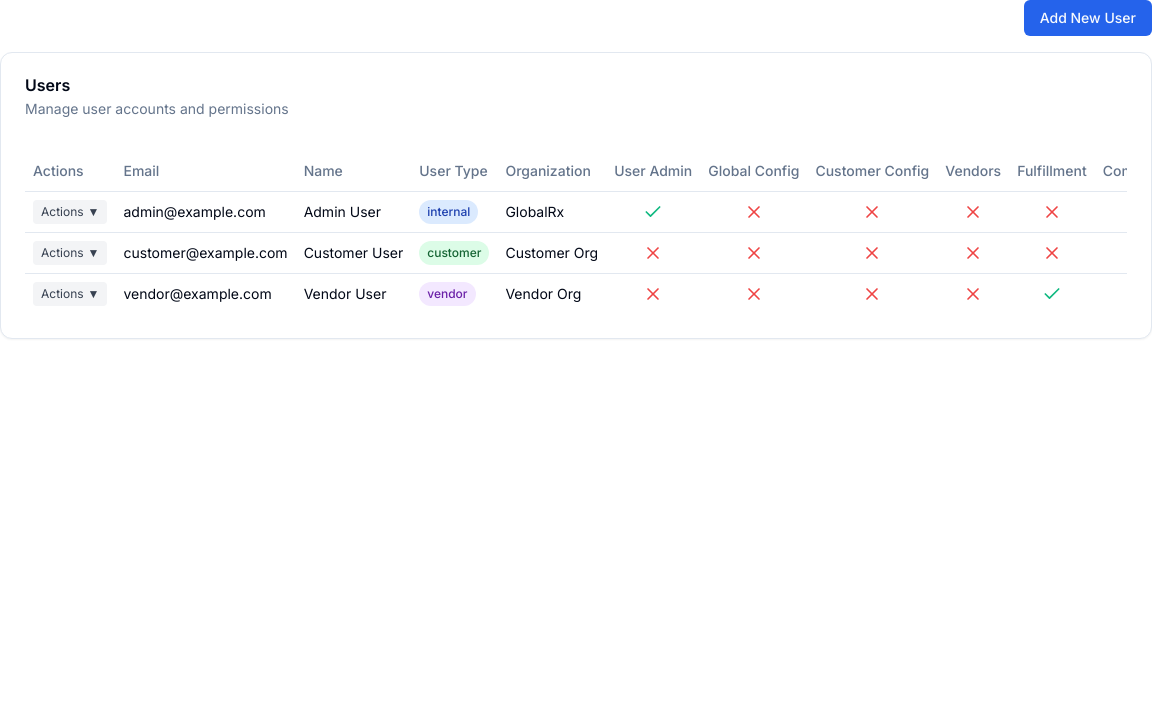
it: UserAdminContent › delete user › should close confirmation dialog when cancel is clicked
This screenshot has width=1152, height=720.
Expected: the text "admin@example.com" is shown, [116,191,296,232]
// Open delete confirmation
Click the button "Actions ▼" next to "admin@example.com" at (70, 212), box [33,200,108,224]
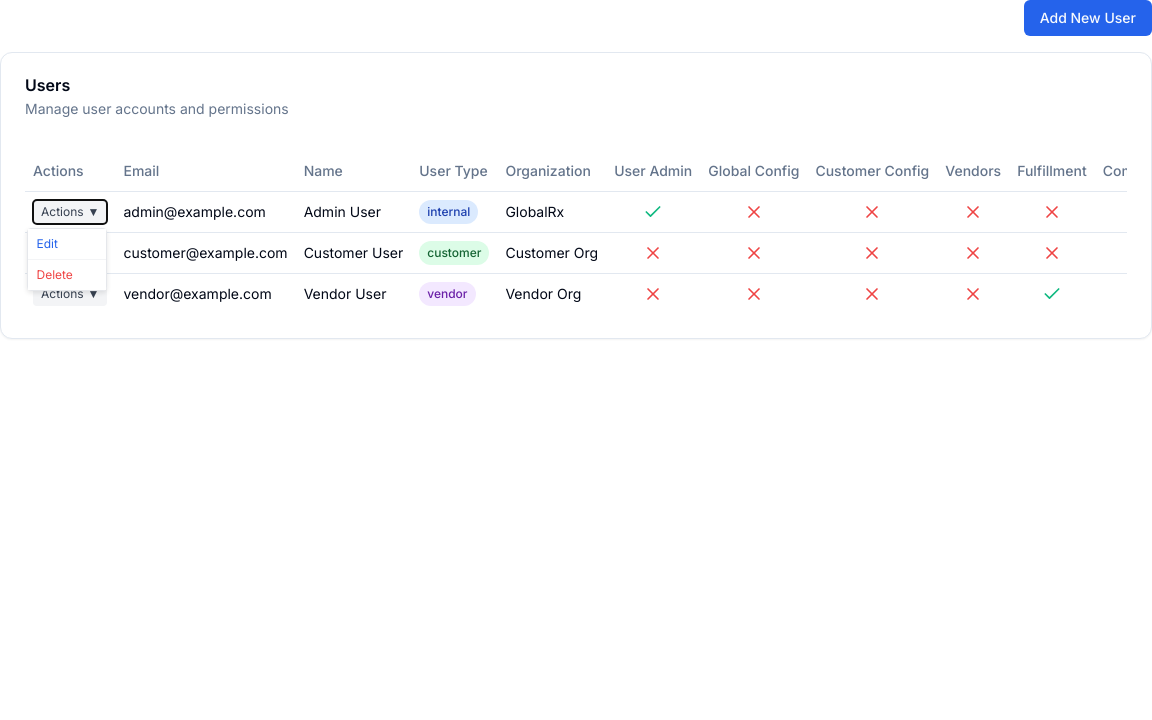
Click the button "Delete" at (68, 274), box [28,260,106,290]
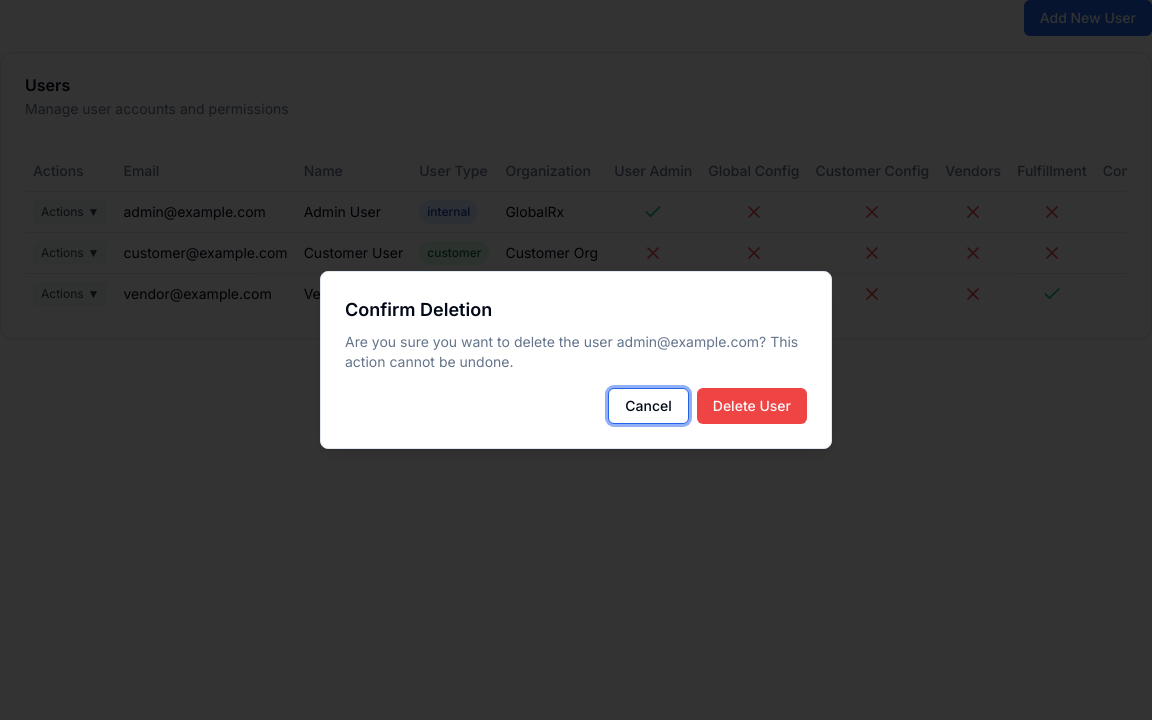
// Cancel deletion
Click the button "Cancel" at (649, 406), box [608,388,689,424]
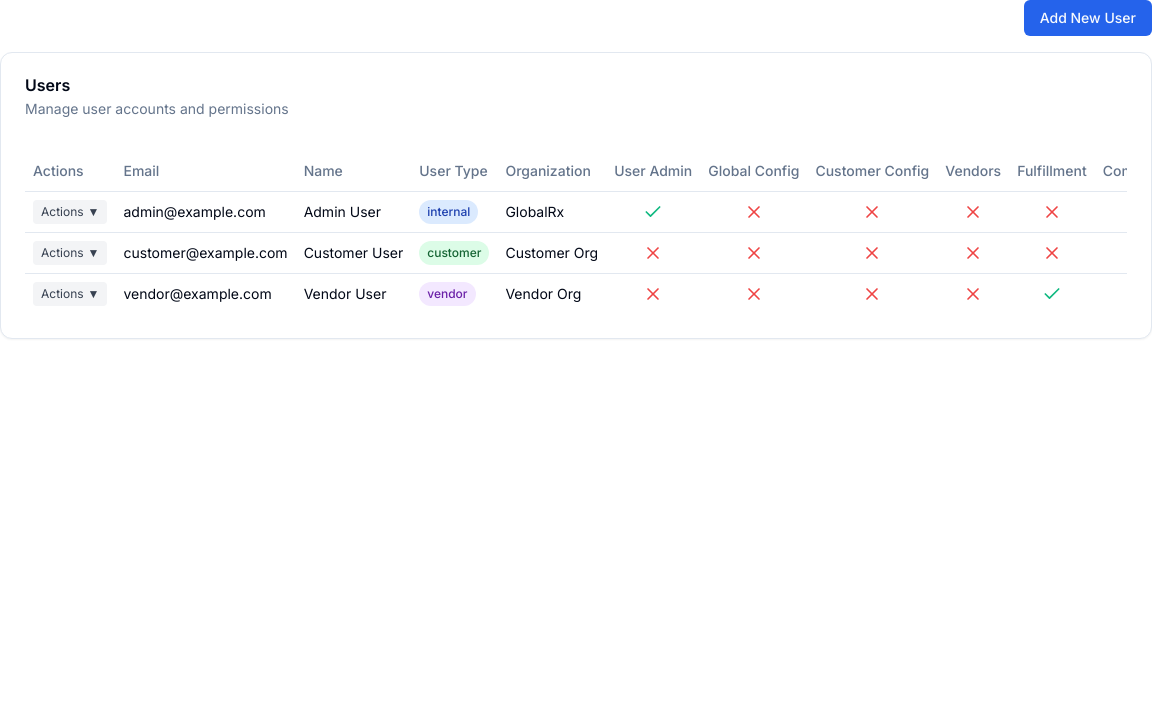
Expected: the text "admin@example.com" is shown, [116,191,296,232]
Expected: the heading "Confirm Deletion" is gone
